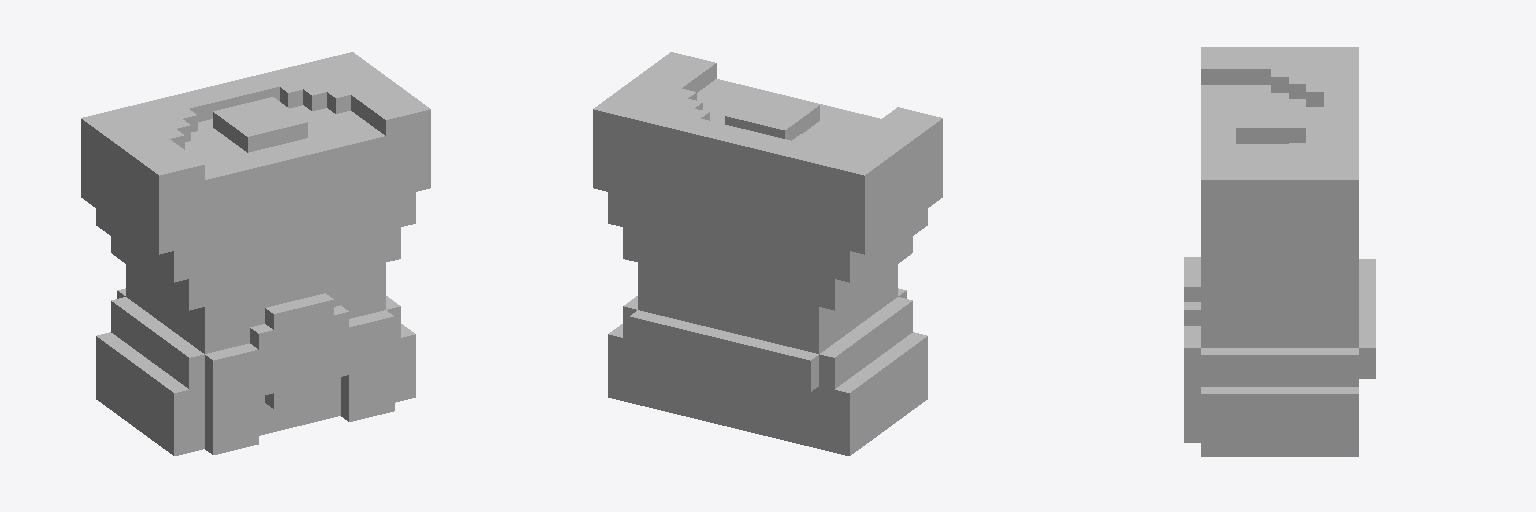
The model's file is dwarfwarriortorso.obj.
The picture shows the model from 3 angles: view 1: azimuth 30°, elevation 25°; view 2: azimuth 150°, elevation 25°; view 3: azimuth 270°, elevation 25°; orthographic projection.
Visible parts, largest first — view 1: DwarfAsWarrior; view 2: DwarfAsWarrior; view 3: DwarfAsWarrior.
Part boxes in pixels (x1,y1,x2,y2): DwarfAsWarrior: (81, 52, 430, 455); DwarfAsWarrior: (593, 52, 942, 455); DwarfAsWarrior: (1184, 47, 1375, 456).
Size of the model in its own units: 18 by 18 by 11.